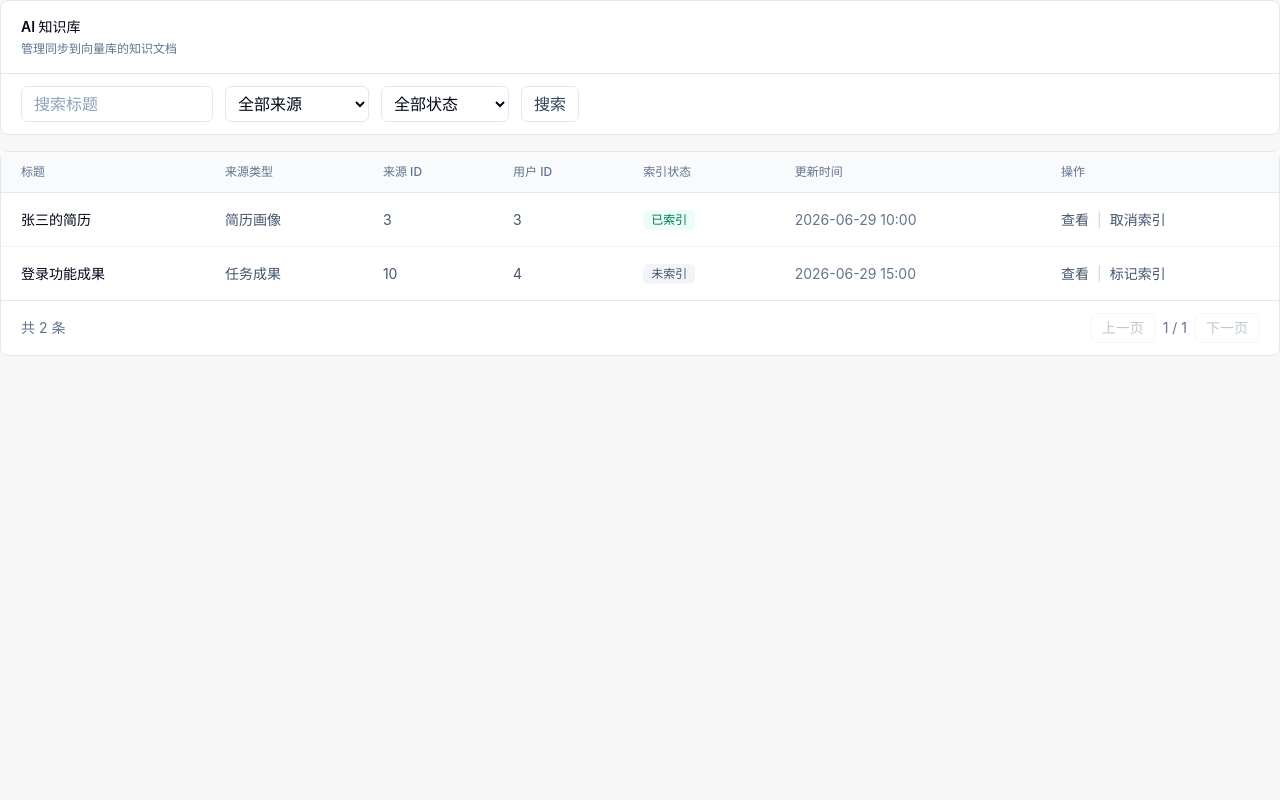
Scenario: KnowledgeView › shows error when detail loading fails
The width and height of the screenshot is (1280, 800).
Click the button "查看" in the row of "简历画像".
click(1075, 220)  # box [1061,210,1089,230]
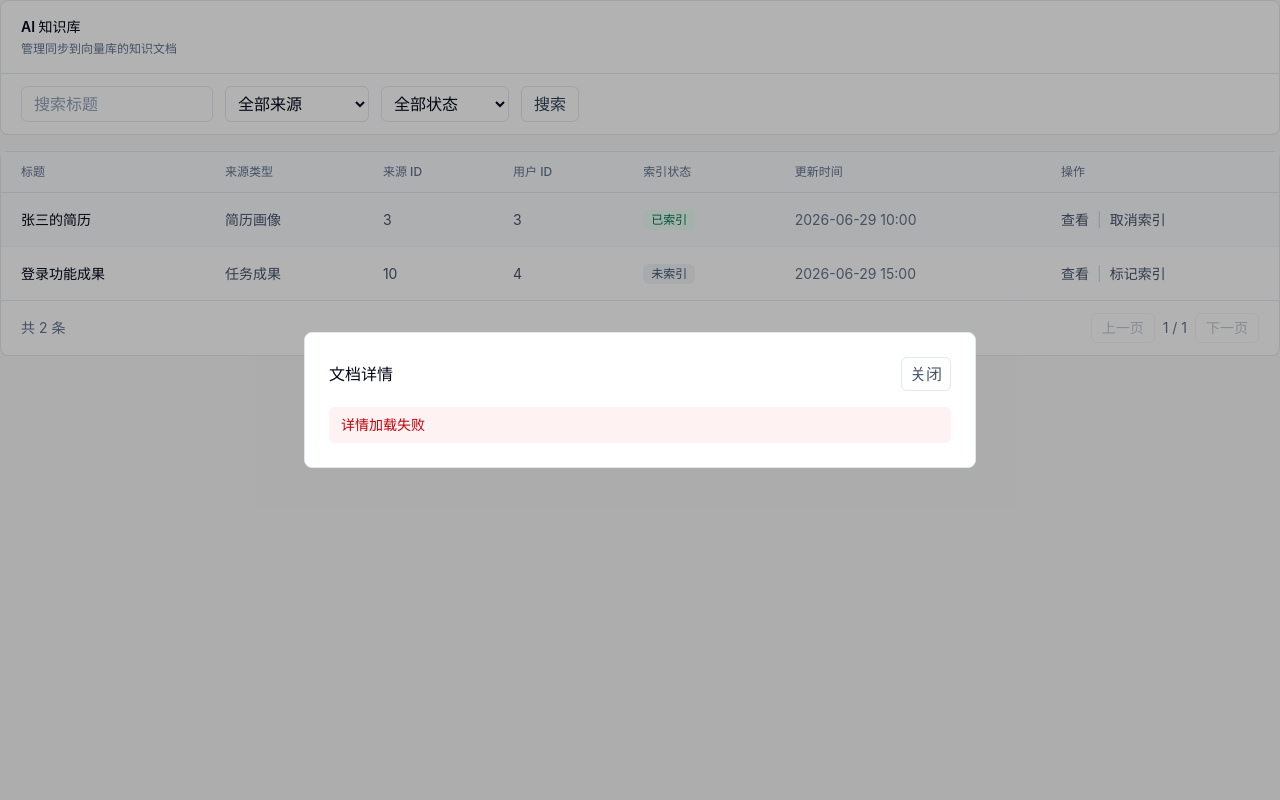
Now the text "详情加载失败" is shown, box [329,407,951,443]
